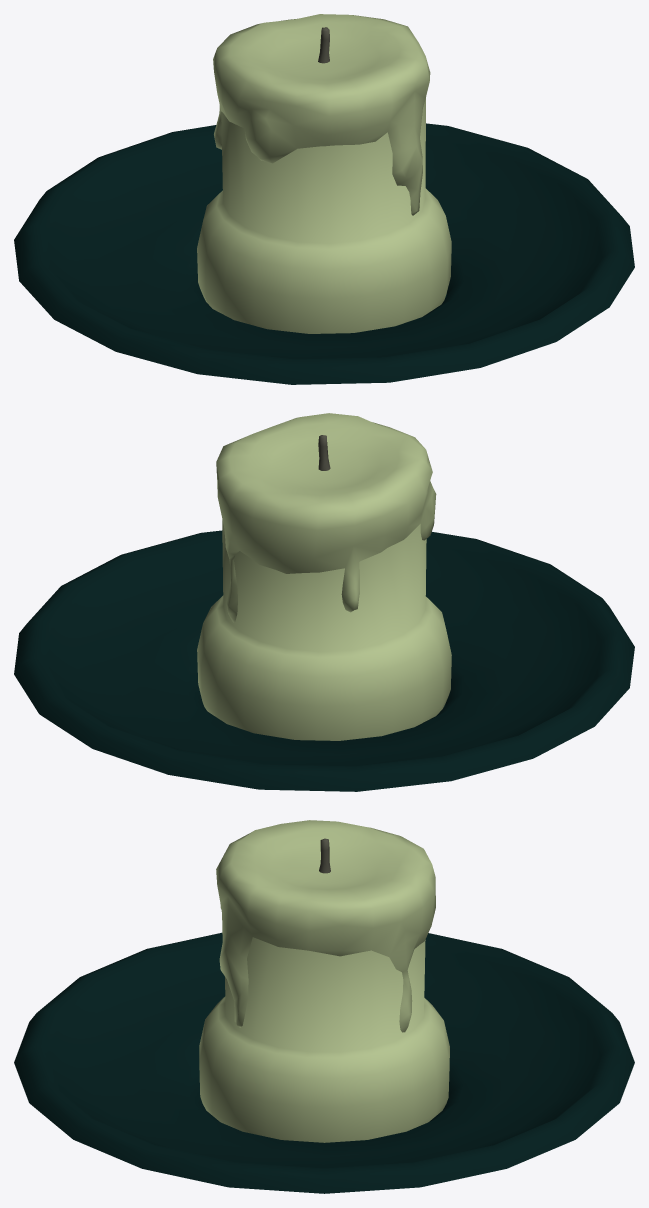
The model's file is SE_168_small_green_candle.glb.
The picture shows the model from 3 angles, top to bottom: view 1: azimuth 30°, elevation 25°; view 2: azimuth 150°, elevation 25°; view 3: azimuth 270°, elevation 25°; orthographic projection.
Visible parts, largest first — view 1: plate, candle_body, candle_molten; view 2: plate, candle_body, candle_molten; view 3: plate, candle_body, candle_molten.
Boxes of the visible parts, x1,y1,x2,y2 form: plate: [14, 123, 634, 384]; candle_body: [197, 27, 451, 333]; candle_molten: [213, 14, 430, 215]; plate: [14, 530, 634, 791]; candle_body: [197, 435, 451, 740]; candle_molten: [216, 413, 436, 622]; plate: [14, 932, 634, 1193]; candle_body: [199, 838, 449, 1142]; candle_molten: [216, 820, 435, 1032].
Bounding box in the file's own units: 0.7367 × 0.3743 × 0.7367.
